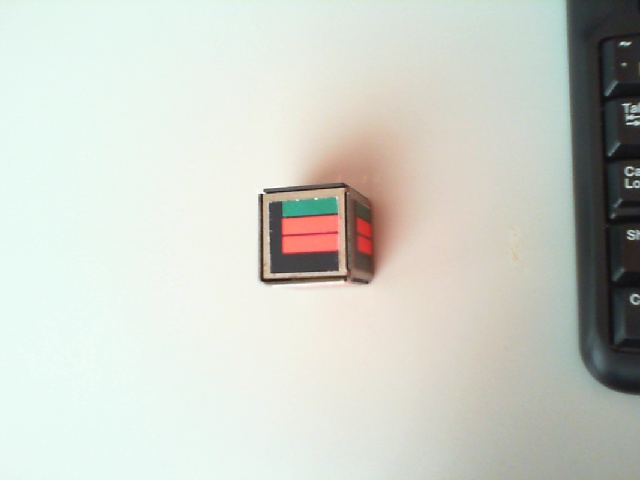square: (268, 198, 339, 272)
